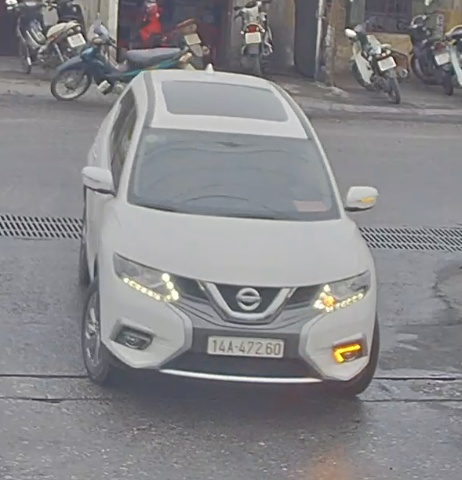vehicle plate: (205, 328, 288, 359)
